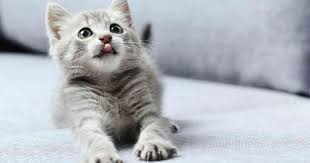Gato: (31, 1, 193, 162)
